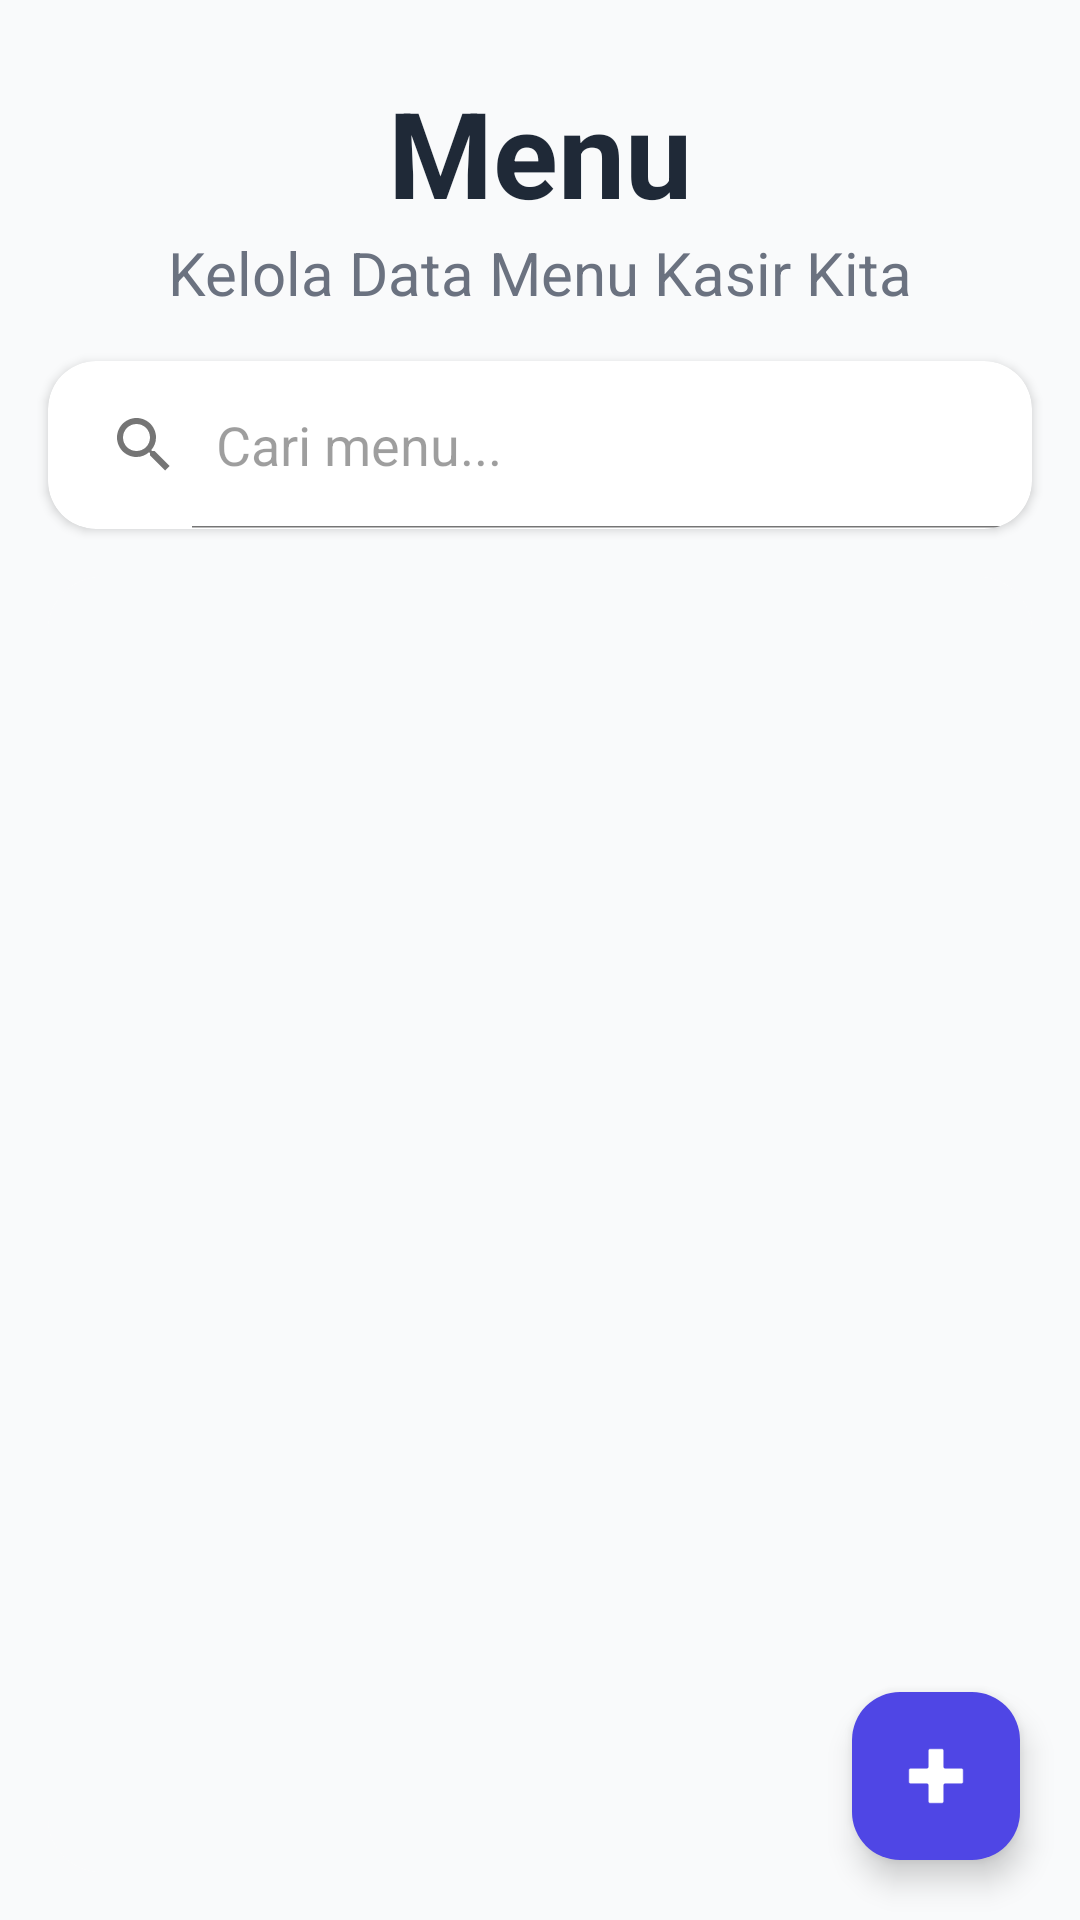

Icon bounding boxes for this 1080 x 1920 phone screenshot, format (x1, y1, x2, y2):
Tambah Produk: (852, 1692, 1020, 1860)
